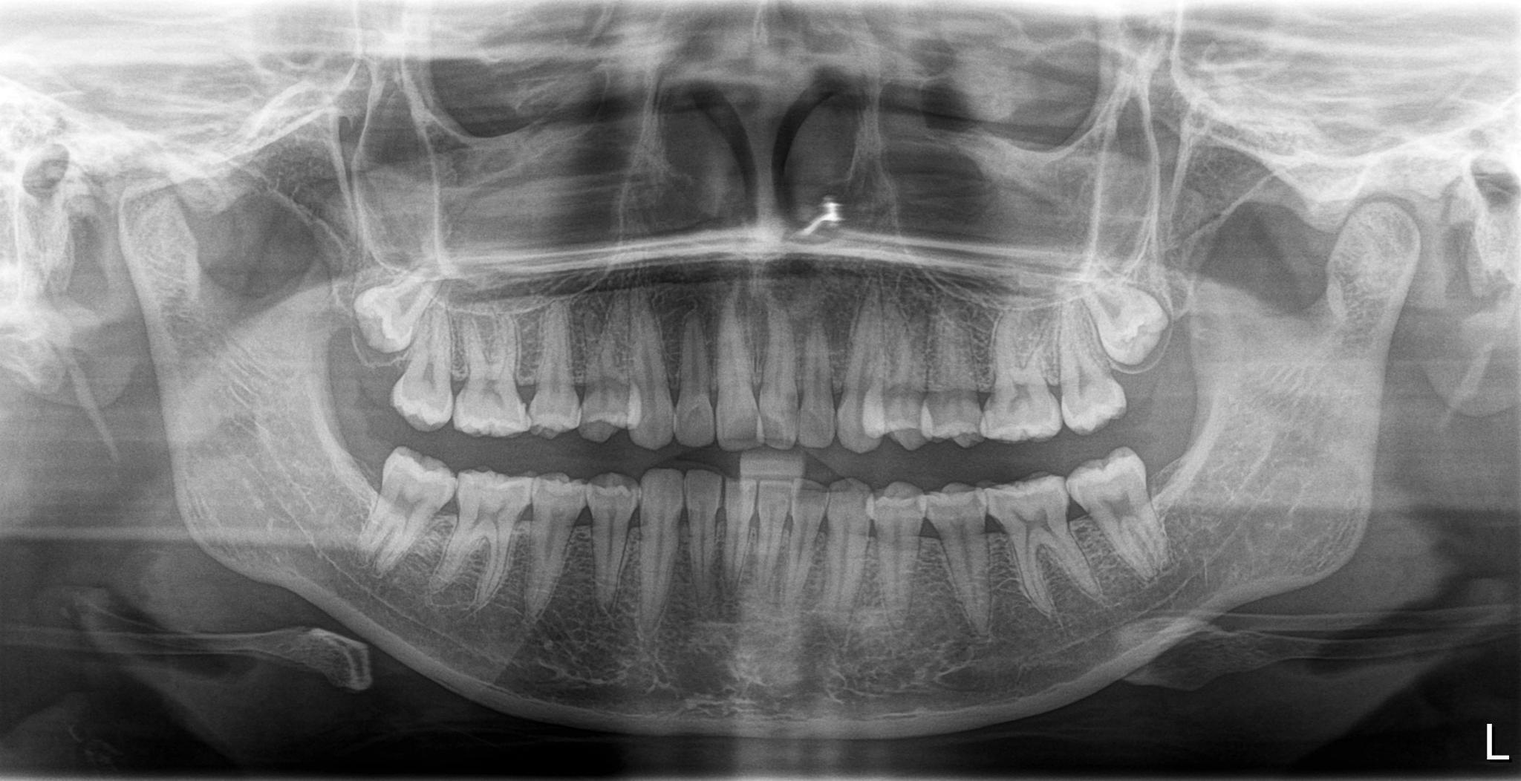Impacted Third Molar: (1094, 280, 1210, 372), (317, 271, 421, 370)
Missing Tooth: (1142, 403, 1213, 526), (314, 416, 385, 516)
